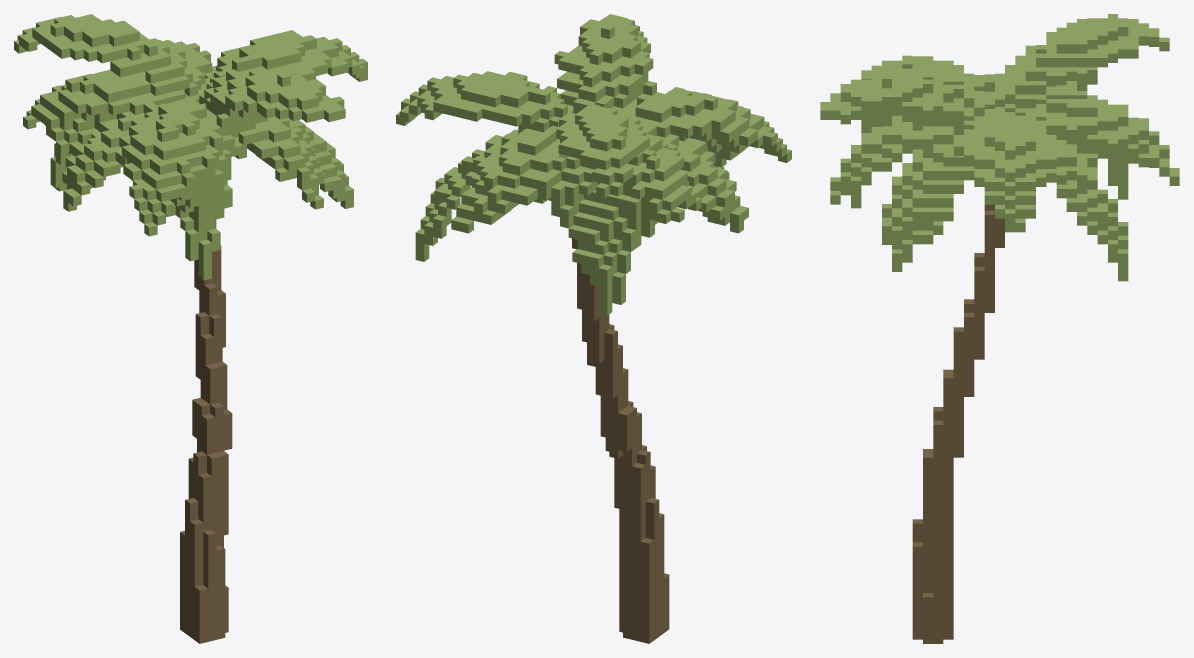
File: Palm_Tree.fbx
The picture shows the model from 3 angles, left to right: view 1: azimuth 30°, elevation 25°; view 2: azimuth 150°, elevation 25°; view 3: azimuth 270°, elevation 25°; orthographic projection. The views are drawn at different scales.
Visible parts, largest first — view 1: Palm-tree; view 2: Palm-tree; view 3: Palm-tree.
Part boxes in pixels (x1,y1,x2,y2): Palm-tree: (14, 14, 367, 643); Palm-tree: (396, 14, 791, 643); Palm-tree: (820, 14, 1179, 643).
Size of the model in its own units: 315 by 537 by 298.
